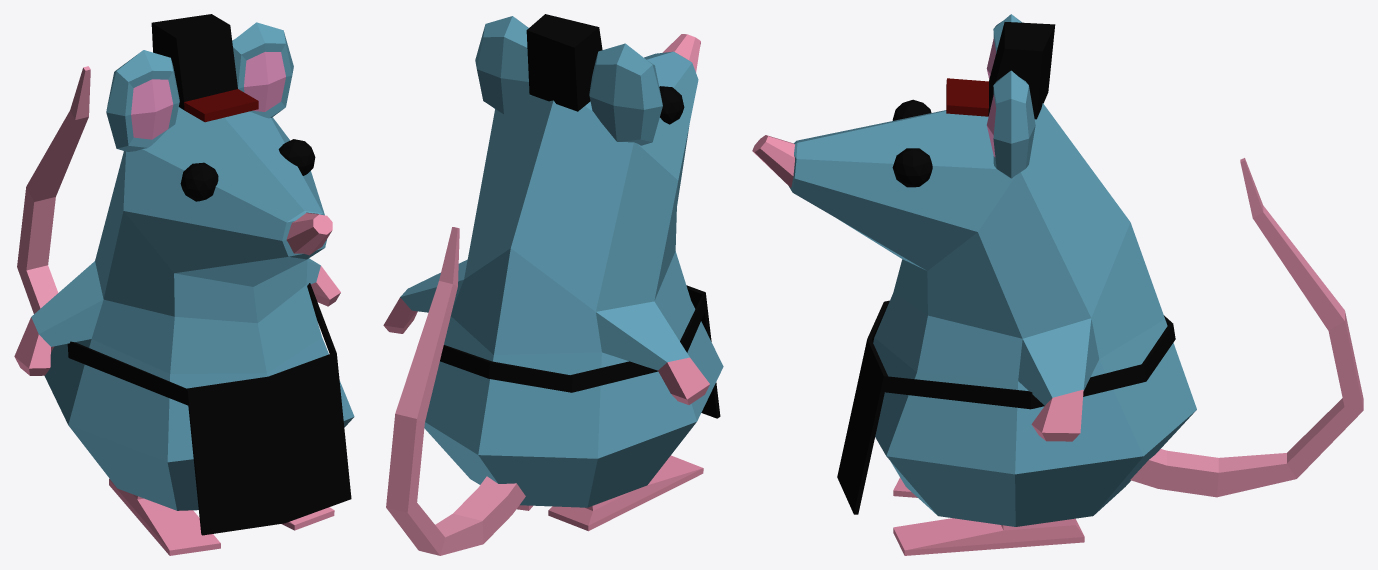
File: polyrat.fbx
The picture shows the model from 3 angles, left to right: view 1: azimuth 30°, elevation 25°; view 2: azimuth 150°, elevation 25°; view 3: azimuth 270°, elevation 25°; orthographic projection. The views are drawn at different scales.
Parts seen in each view (by area): view 1: Circle; view 2: Circle; view 3: Circle.
Part boxes in pixels (<box>): Circle: <box>14,14,354,555</box>; Circle: <box>383,14,723,555</box>; Circle: <box>752,14,1363,555</box>.
Size of the model in its own units: 203 by 291 by 336.
